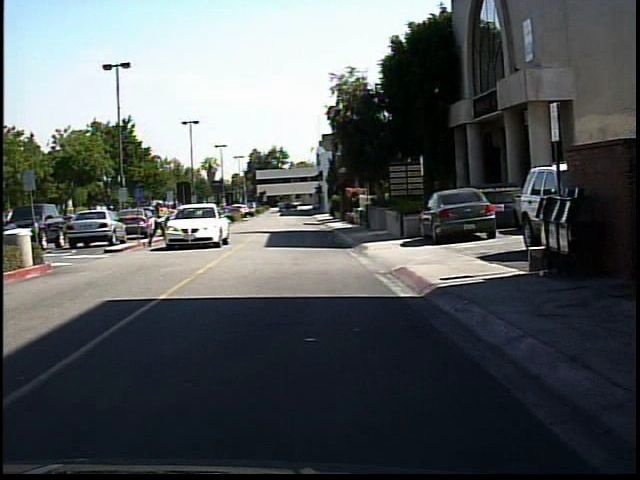person: (147, 196, 171, 249)
